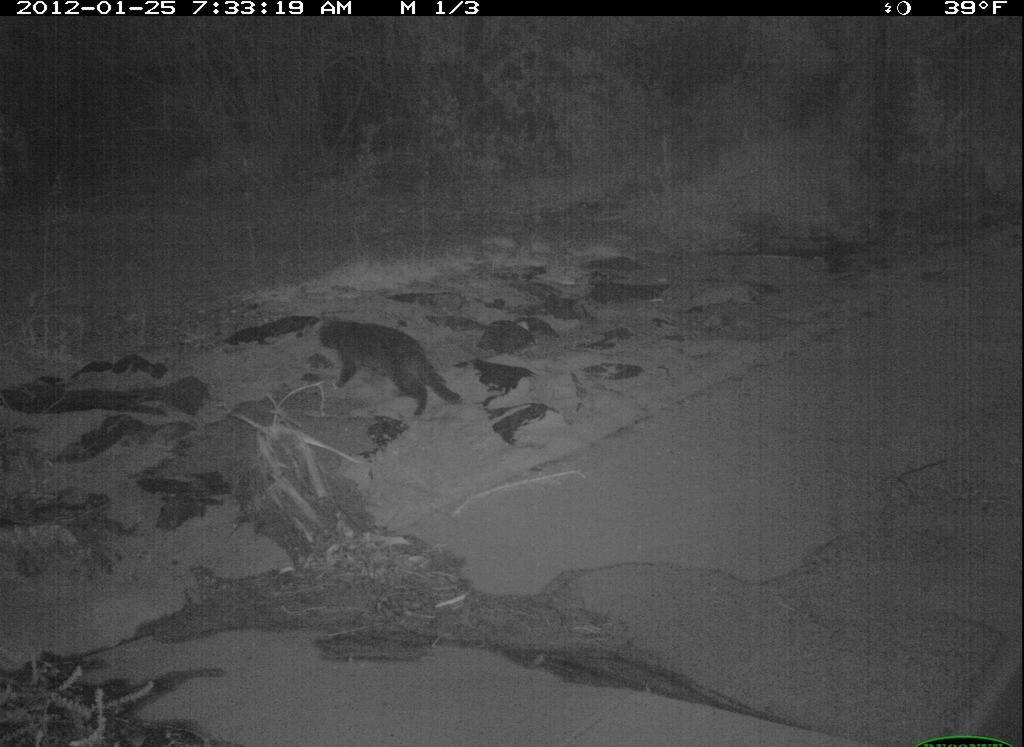cat: (309, 303, 464, 420)
